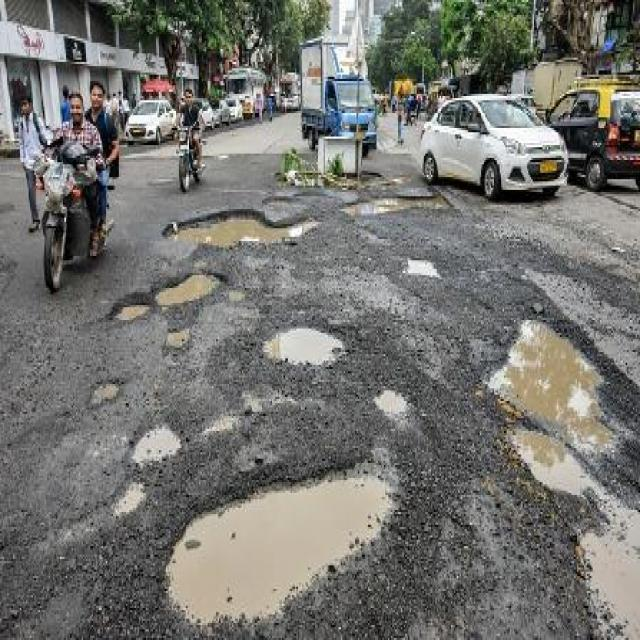pothole: (163, 454, 401, 624), (486, 310, 638, 494), (576, 503, 640, 637), (164, 202, 324, 250), (264, 318, 346, 369), (154, 264, 227, 308), (340, 190, 450, 218), (130, 418, 180, 465), (110, 478, 149, 516), (87, 373, 123, 410), (113, 290, 152, 324), (406, 252, 444, 280), (374, 386, 412, 412), (164, 324, 194, 346)
